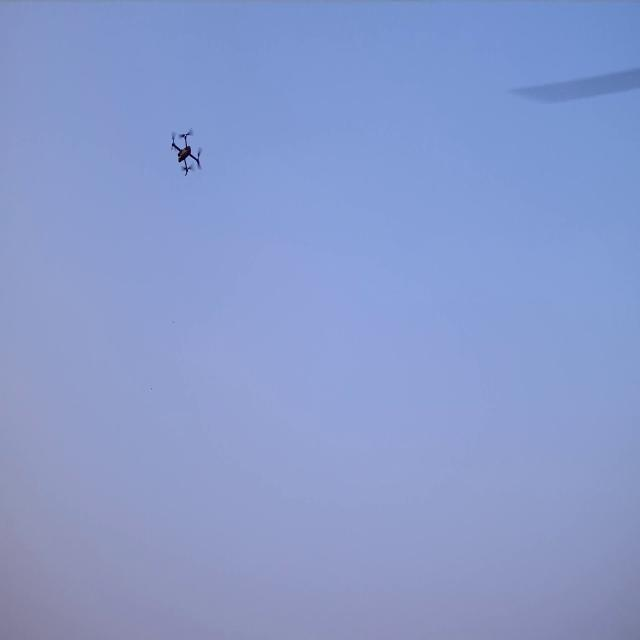UAV: (171, 133, 199, 175)
